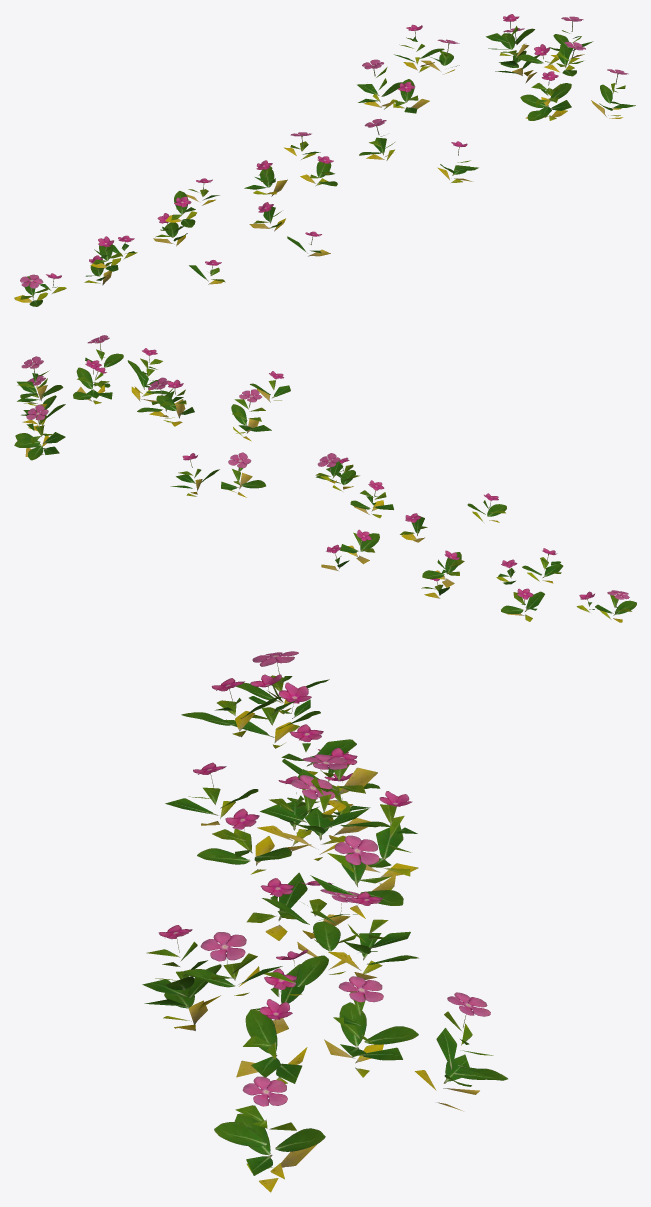
Rendered from periwinkle_plant.glb.
3 renders of one model, top to bottom at view 1: azimuth 30°, elevation 25°; view 2: azimuth 150°, elevation 25°; view 3: azimuth 270°, elevation 25°, orthographic. The views are drawn at different scales.
Parts seen in each view (by area): view 1: periwinkle_plant_01_LOD0; view 2: periwinkle_plant_01_LOD0; view 3: periwinkle_plant_01_LOD0.
Boxes of the visible parts, x1,y1,x2,y2 form: periwinkle_plant_01_LOD0: (14, 14, 635, 306); periwinkle_plant_01_LOD0: (14, 335, 636, 622); periwinkle_plant_01_LOD0: (142, 651, 507, 1192).
Bounding box in the file's own units: 1.24 × 0.3457 × 0.3208.
1 material, 1 textured.
